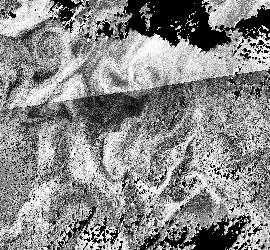CE: (28, 25, 69, 70)
